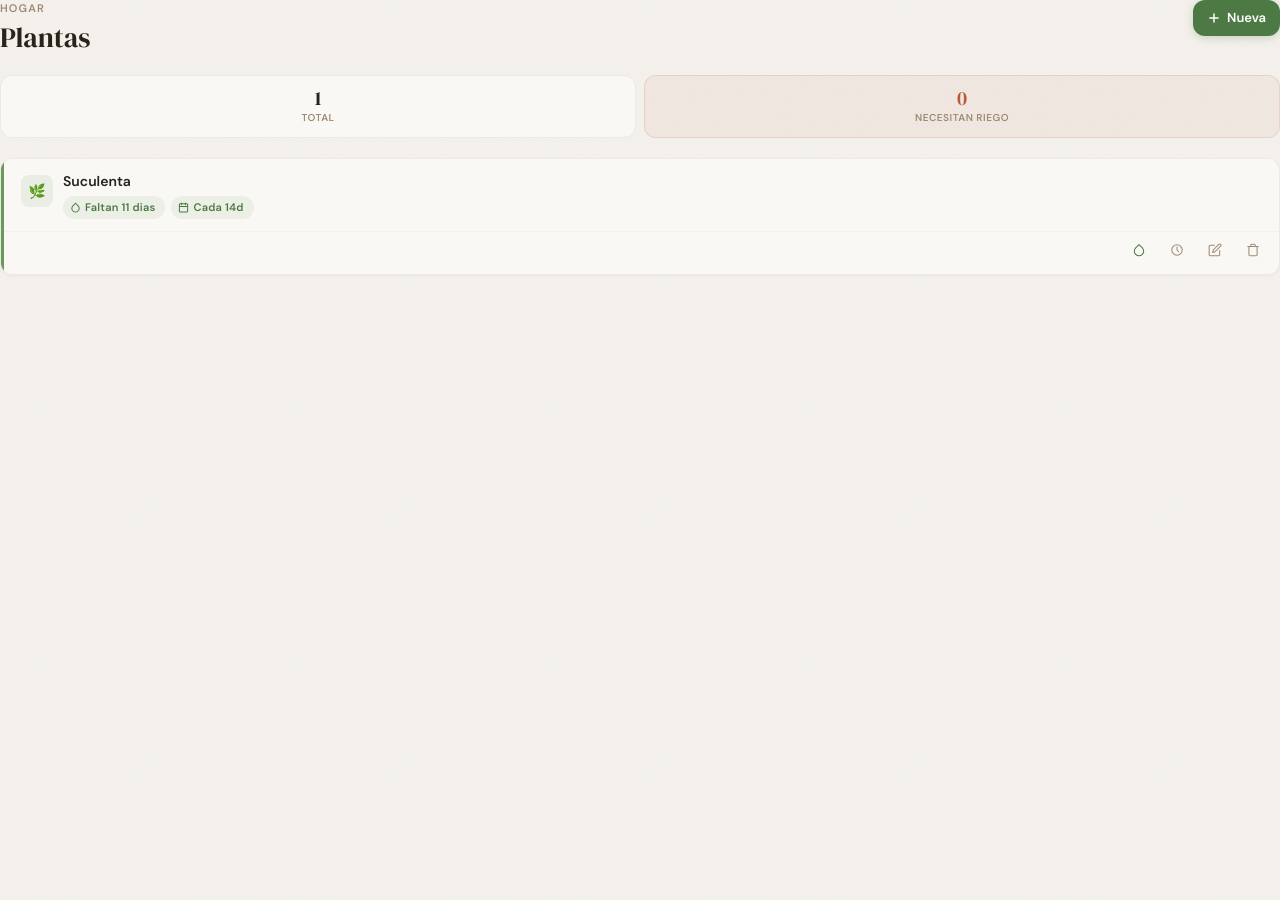
Test case: Plants page › abre historial al hacer click en el icono
Check: the heading "Suculenta" is shown, box [63, 172, 131, 190]
What coordinates should you click on to do the following:
click the button titled "Historial"
I would click on:
 (1177, 250)
Its box is [1159, 234, 1195, 266].
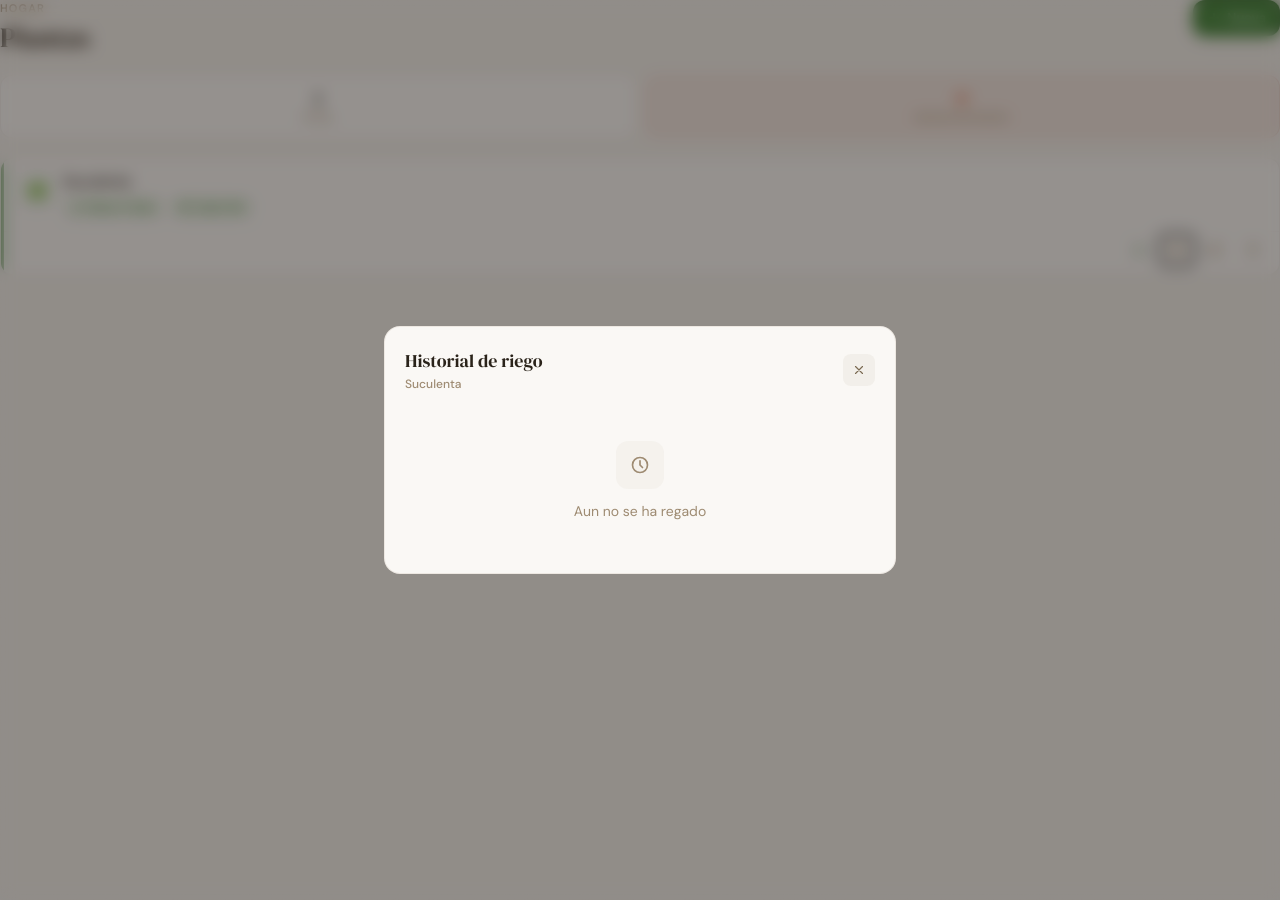
Check: the text "Aun no se ha regado" is shown, box [574, 502, 706, 520]
